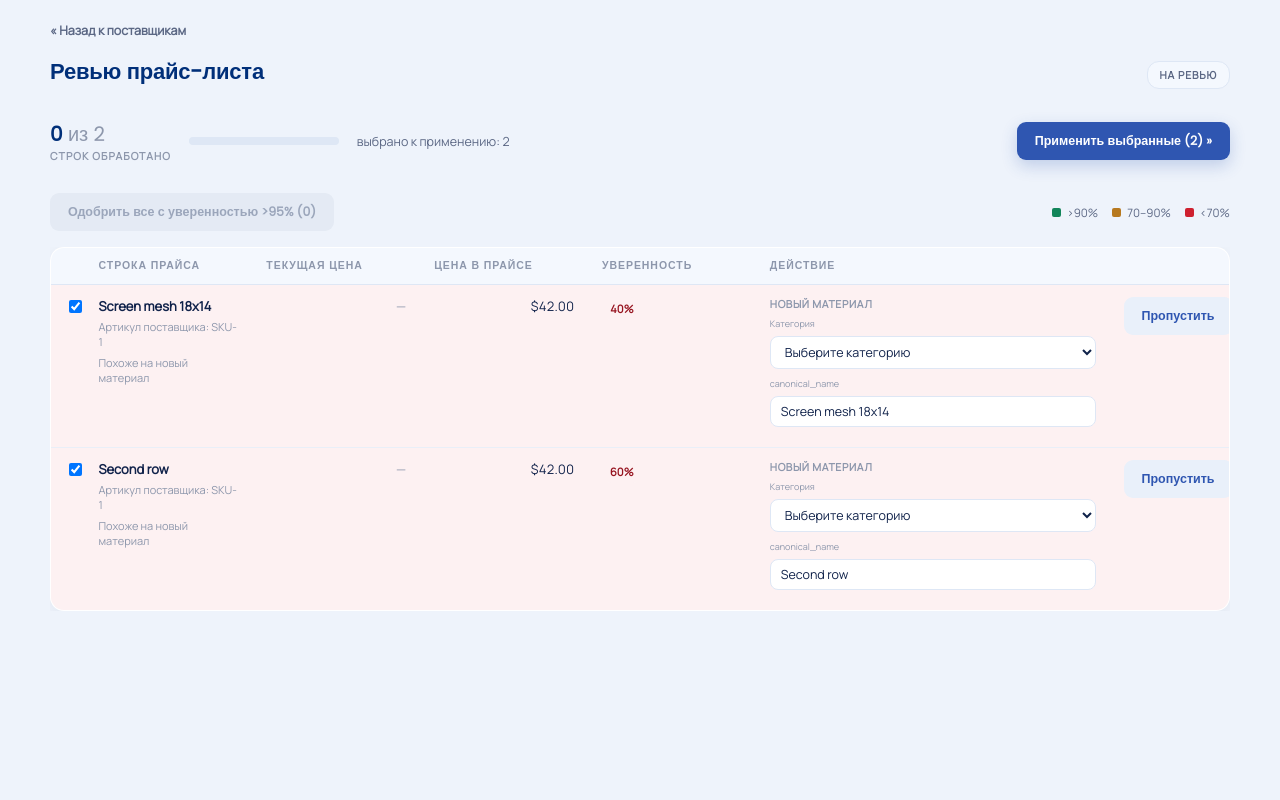
PriceListImportReviewPage › applies all checked pending rows and reports a summary
This screenshot has width=1280, height=800.
Expected: the text "Screen mesh 18x14" is shown, [98,297,212,315]
Select "Mesh" in the dropdown labelled "Категория" below "40" at [933, 352], box [770,336,1096,369]
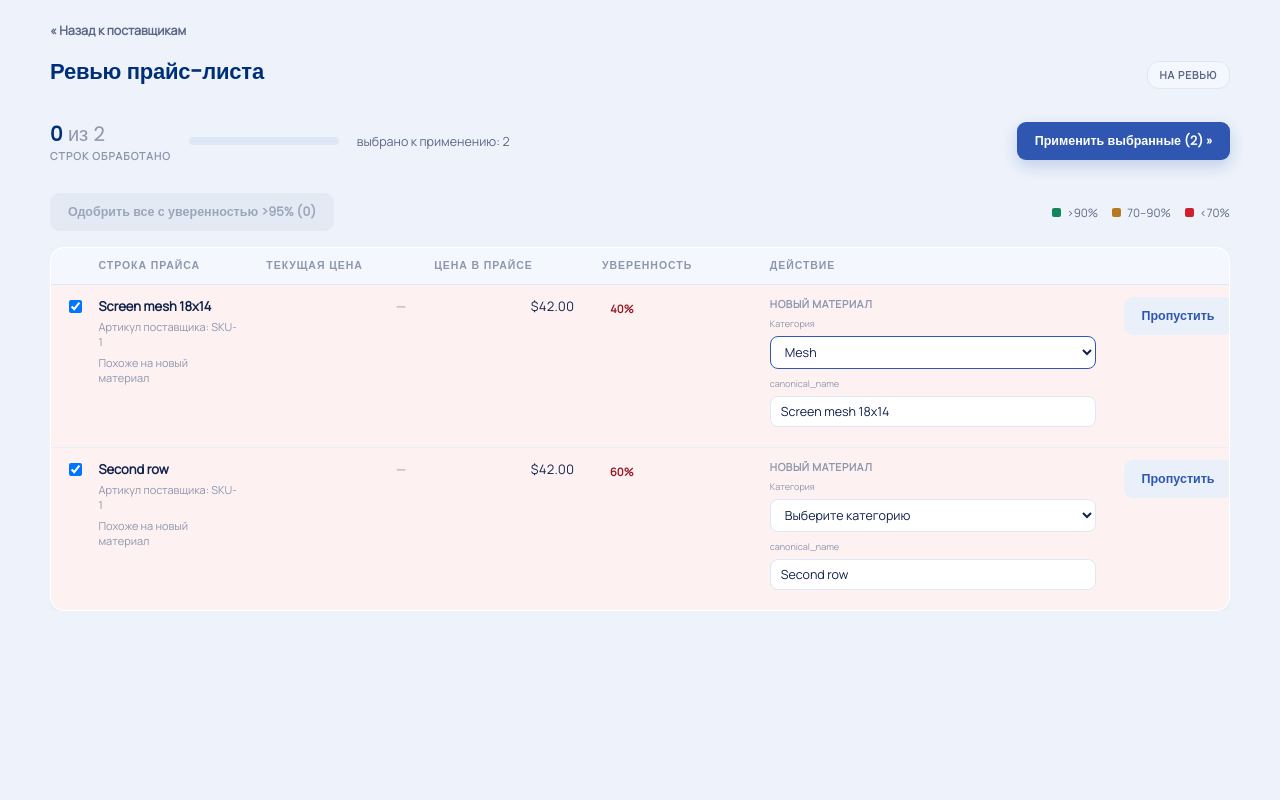
Select "Mesh" in the dropdown labelled "Категория" below "60" at [933, 516], box [770,499,1096,532]
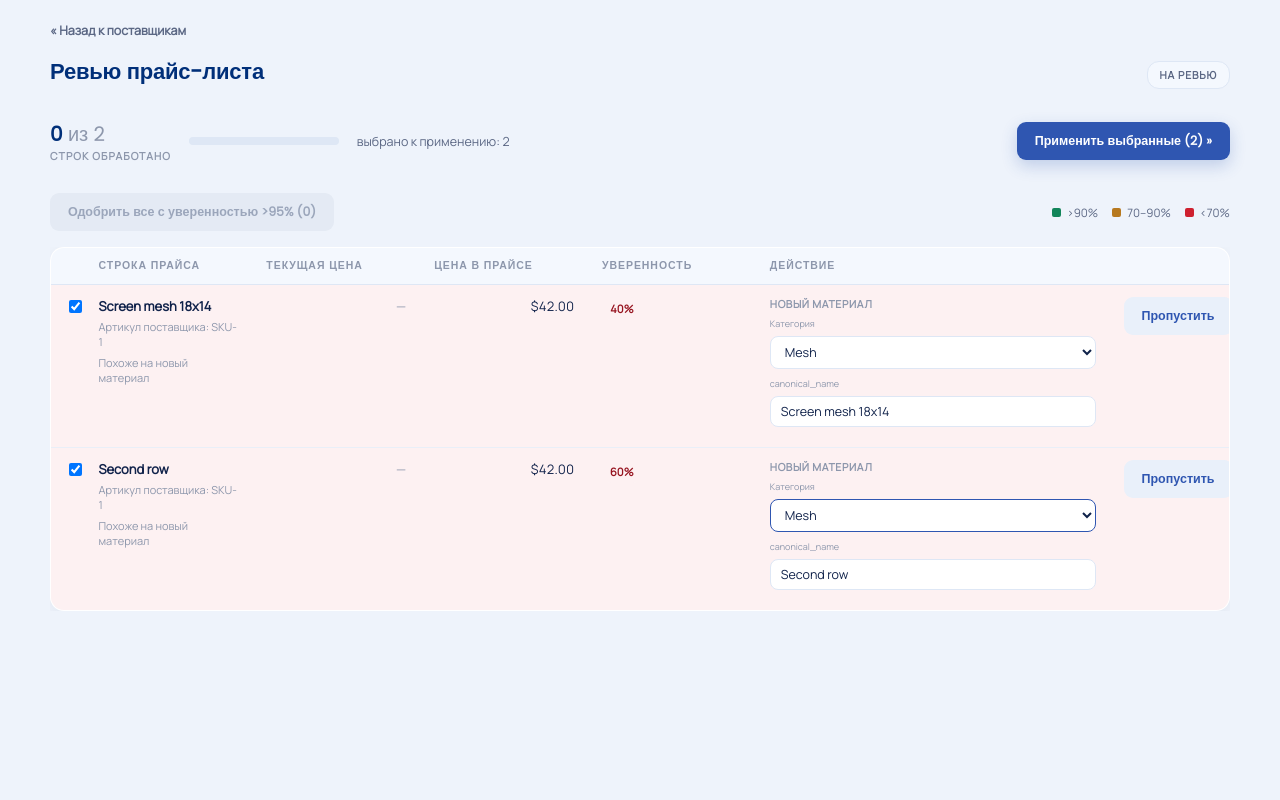
Click the button "Применить выбранные (2) »" at [1123, 141], box [1017,122,1230,160]
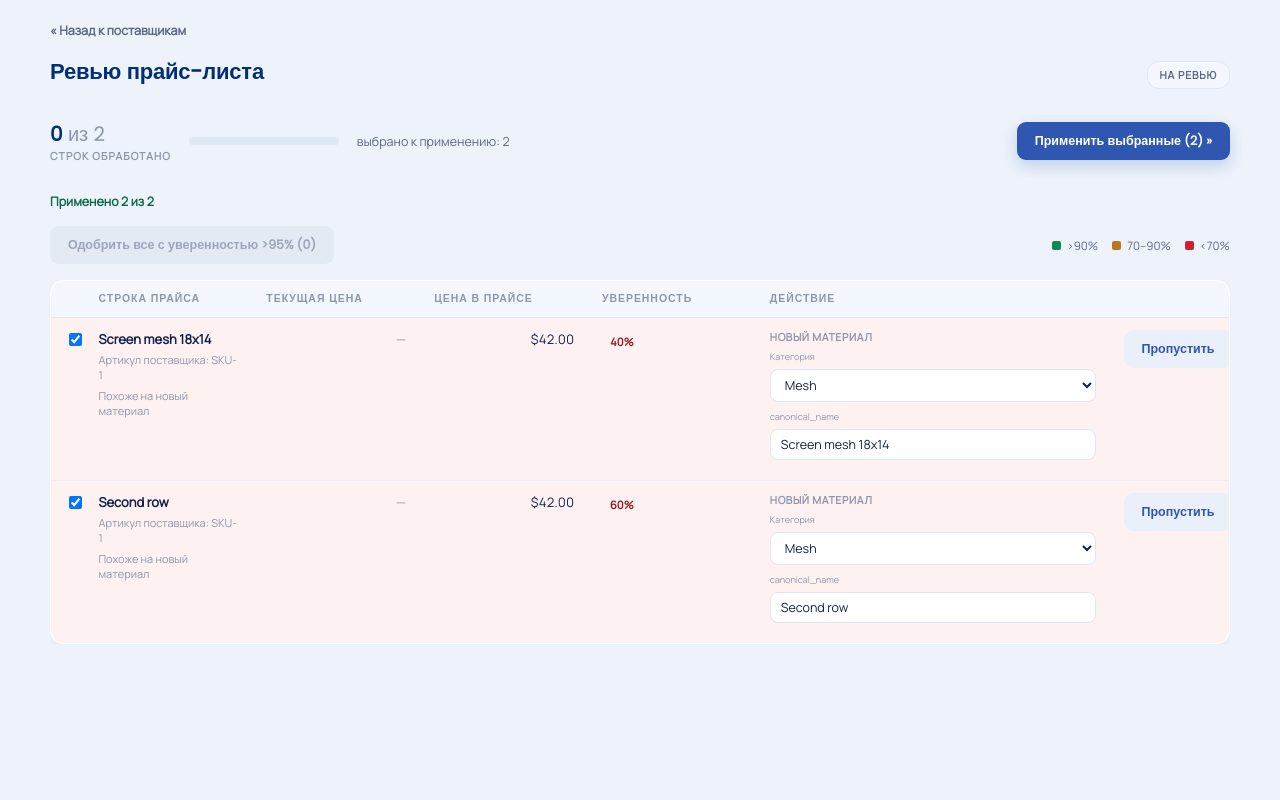
Now the text "Применено 2 из 2" is shown, box [50,193,154,210]
